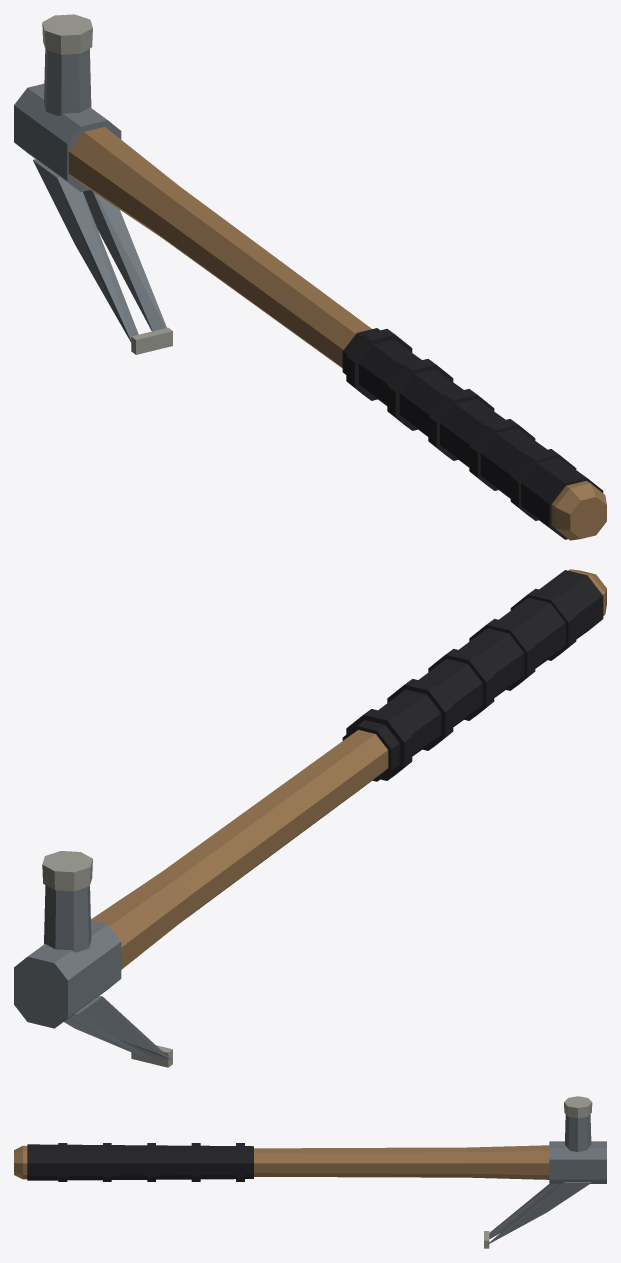
Rendered from hammer.glb.
3 renders of one model, top to bottom at view 1: azimuth 30°, elevation 25°; view 2: azimuth 150°, elevation 25°; view 3: azimuth 270°, elevation 25°, orthographic. The views are drawn at different scales.
Parts seen in each view (by area): view 1: hammer; view 2: hammer; view 3: hammer.
Boxes of the visible parts, x1,y1,x2,y2 form: hammer: [14, 14, 606, 540]; hammer: [14, 569, 606, 1067]; hammer: [14, 1096, 606, 1248].
Size of the model in its own units: 0.0407 by 0.176 by 0.6675.
Materials: 1 (1 with a texture image).
